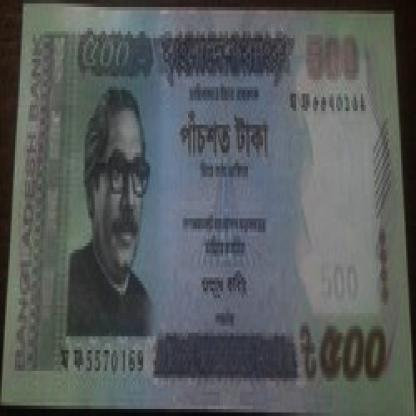500 taka: (175, 104, 288, 187), (65, 21, 151, 104)
currency: (4, 7, 415, 415)
